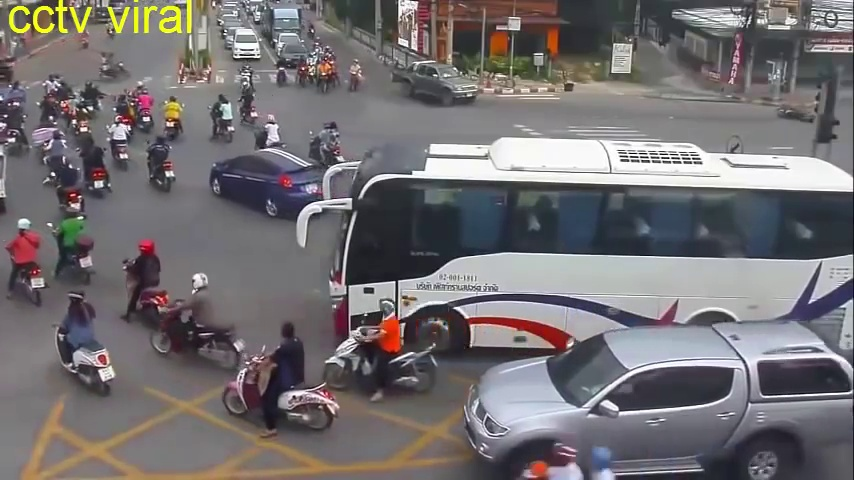car: (336, 138, 854, 365), (469, 316, 852, 480), (213, 147, 341, 227), (392, 57, 478, 108), (233, 29, 260, 63), (278, 43, 309, 71)
motorbike: (224, 322, 336, 430), (324, 303, 436, 398), (152, 274, 243, 370), (48, 287, 116, 401), (123, 238, 174, 336), (6, 217, 48, 309), (48, 211, 96, 284), (51, 158, 85, 218), (306, 120, 343, 173), (80, 139, 110, 200), (145, 135, 175, 193), (254, 109, 284, 158), (209, 95, 235, 148), (7, 100, 28, 159), (108, 117, 130, 170), (42, 130, 68, 172), (165, 95, 184, 138), (237, 82, 255, 125), (139, 89, 155, 136), (74, 105, 91, 147), (42, 93, 58, 135), (348, 58, 362, 97), (316, 58, 330, 95), (242, 62, 253, 93)
